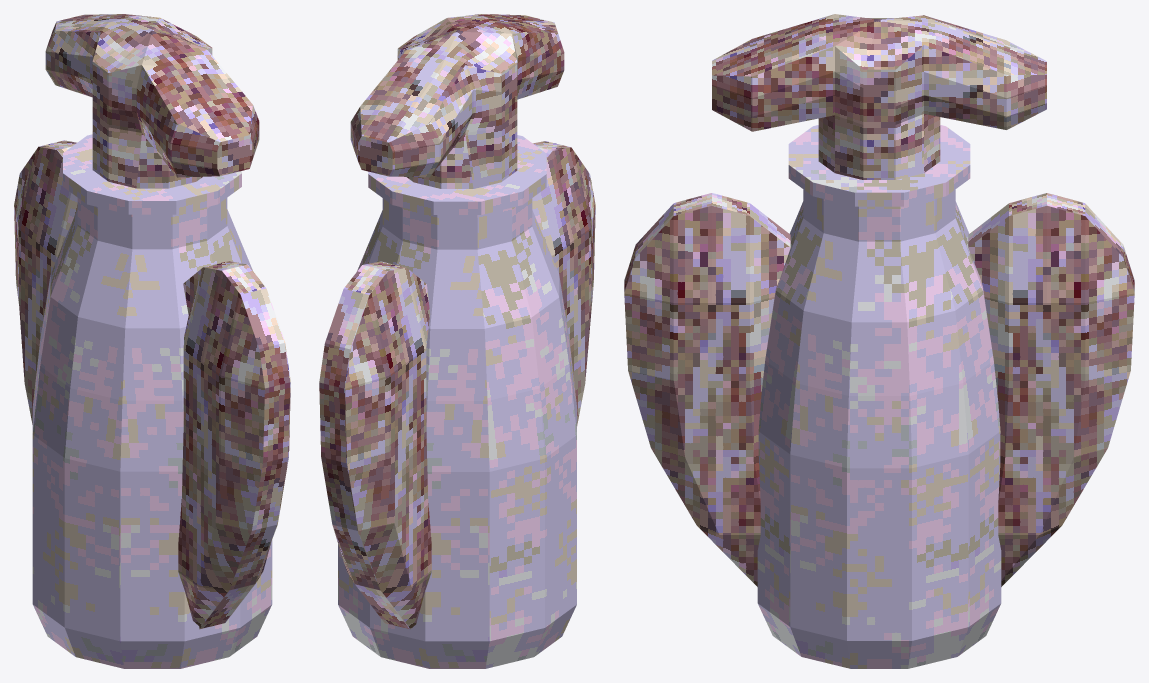
Rendered from Elexier.fbx.
The picture shows the model from 3 angles, left to right: view 1: azimuth 30°, elevation 25°; view 2: azimuth 150°, elevation 25°; view 3: azimuth 270°, elevation 25°; orthographic projection.
Parts seen in each view (by area): view 1: cylinder, mesh, cylinder_1, mesh_1; view 2: cylinder, mesh_1, cylinder_1, mesh; view 3: cylinder, mesh, mesh_1, cylinder_1.
Part boxes in pixels (left/top/right/bottom): cylinder: left=32, top=134, right=272, bottom=668; mesh: left=178, top=261, right=290, bottom=629; cylinder_1: left=45, top=14, right=259, bottom=188; mesh_1: left=14, top=140, right=77, bottom=424; cylinder: left=338, top=135, right=576, bottom=668; mesh_1: left=319, top=261, right=431, bottom=629; cylinder_1: left=350, top=14, right=564, bottom=188; mesh: left=532, top=141, right=595, bottom=425; cylinder: left=757, top=125, right=1001, bottom=668; mesh: left=624, top=193, right=790, bottom=586; mesh_1: left=968, top=193, right=1134, bottom=586; cylinder_1: left=712, top=14, right=1046, bottom=179.
Size of the model in its own units: 100 by 273 by 209.
2 materials, 2 textured.
